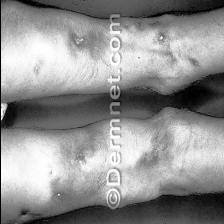Unclassified: (66, 25, 94, 57), (152, 26, 168, 50)
